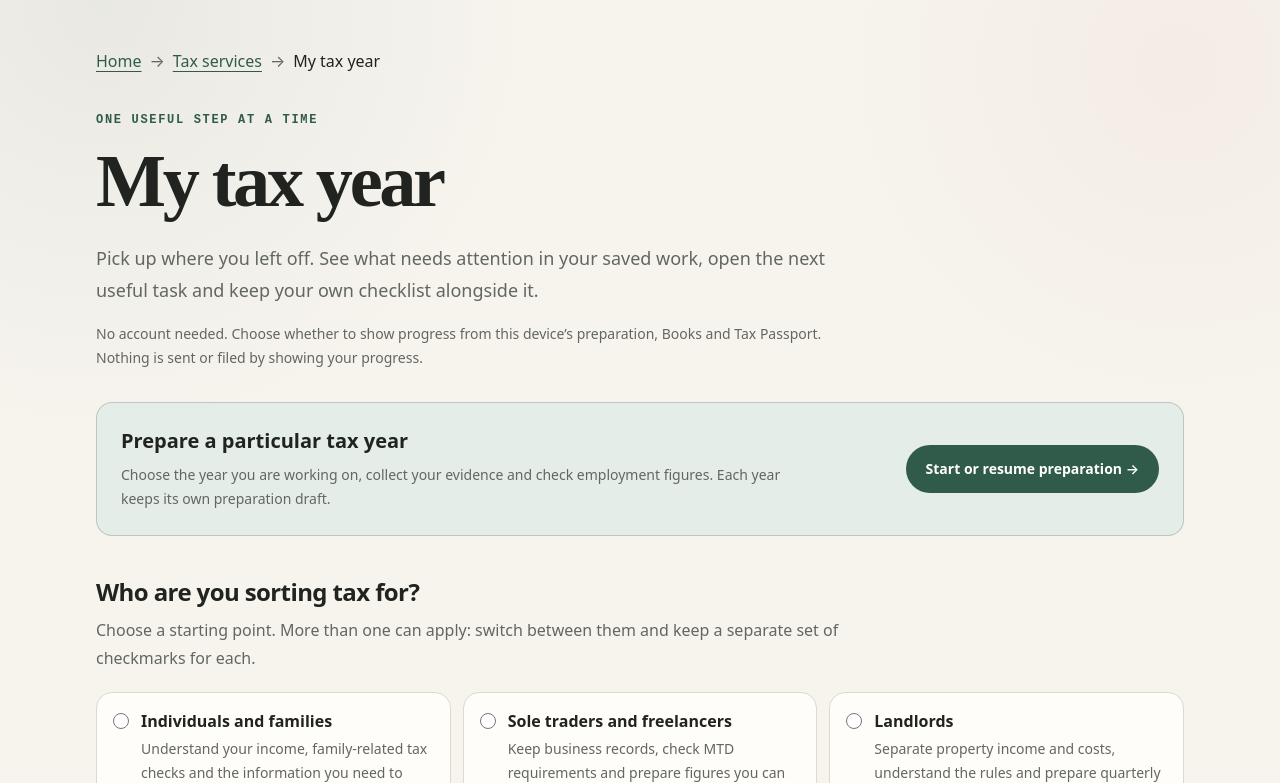
Test: My tax year and personal checklist › starts without a profile or an implicit save
Expected: the heading "My tax year" is shown, [96,140,443,222]
Expected: the text "Choose whether to show progress" is shown, [96,324,821,367]
Click the radio button labelled "Sole traders and freelancers" at (488, 721), box [480,713,496,729]
(page scrolled)
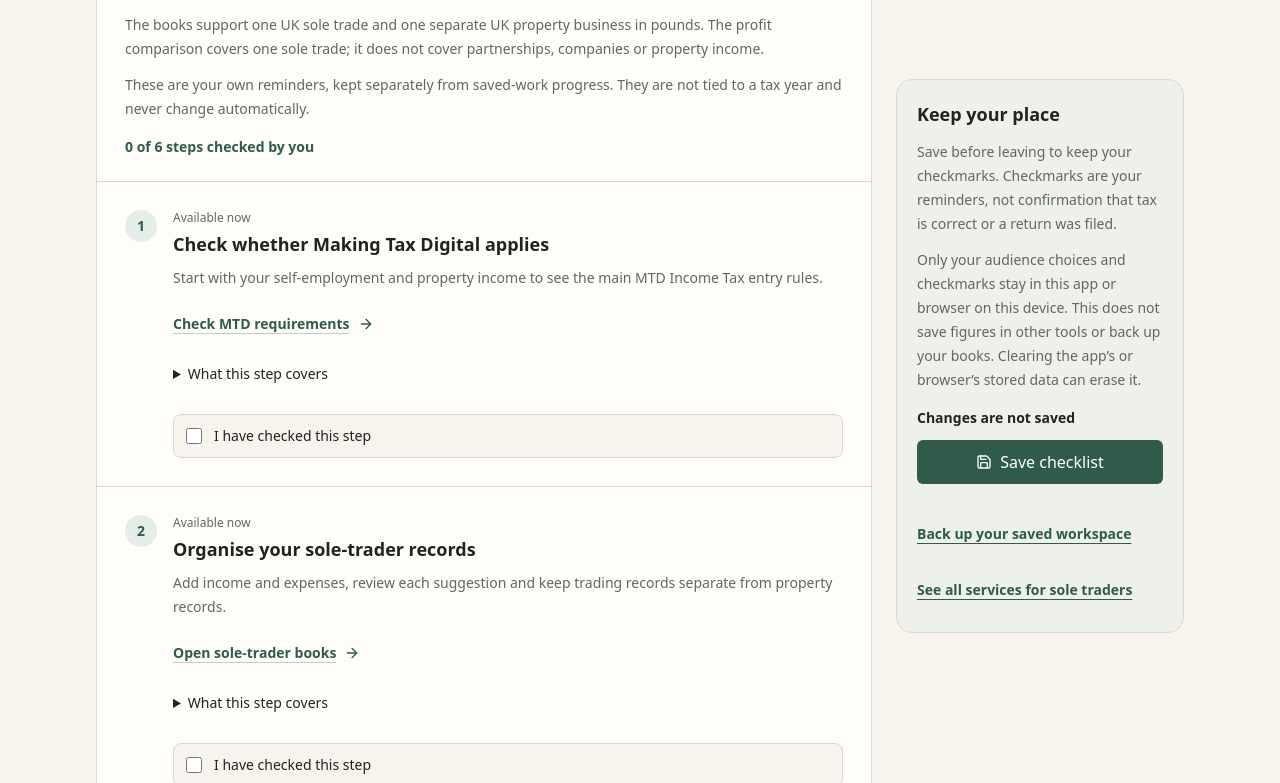
Click the checkbox labelled "I have checked this step" below "Check MTD requirements" at (194, 436), box [186,428,202,444]
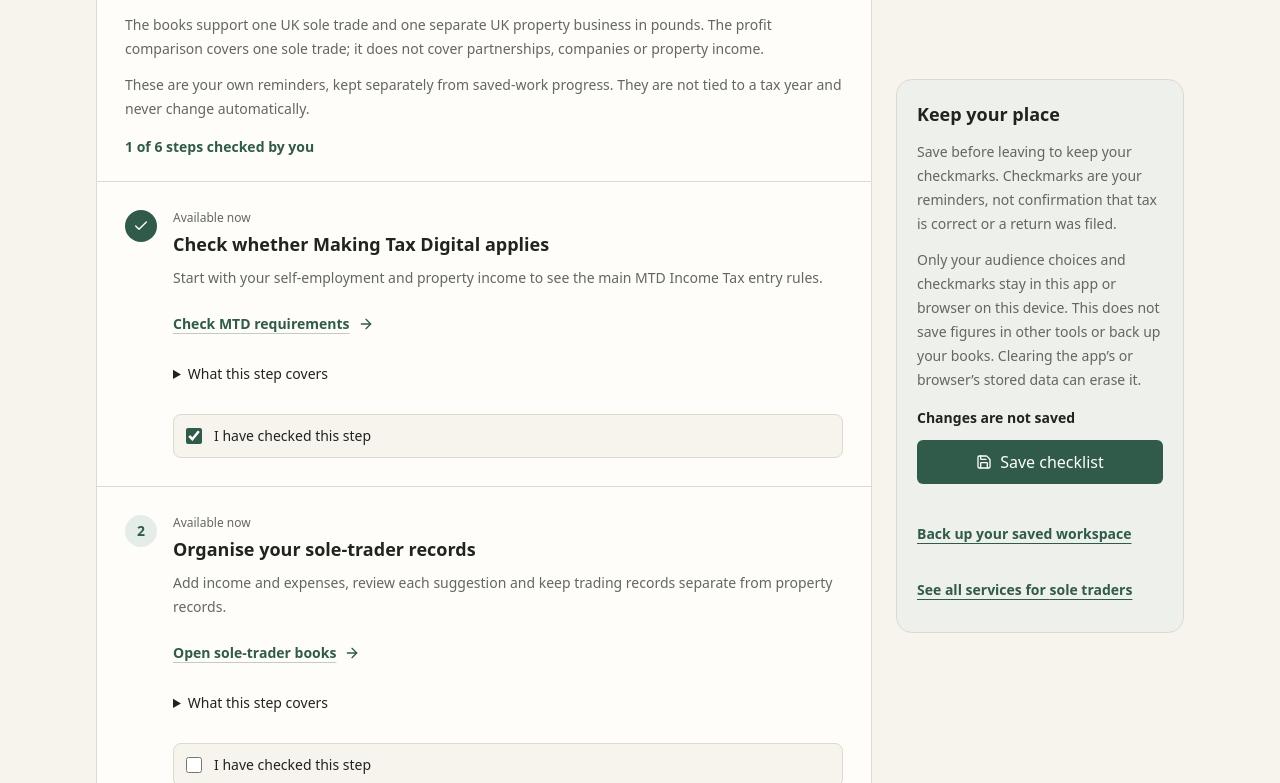
Expected: the text "1 of 6 steps checked by you" is shown, [125,137,314,156]
